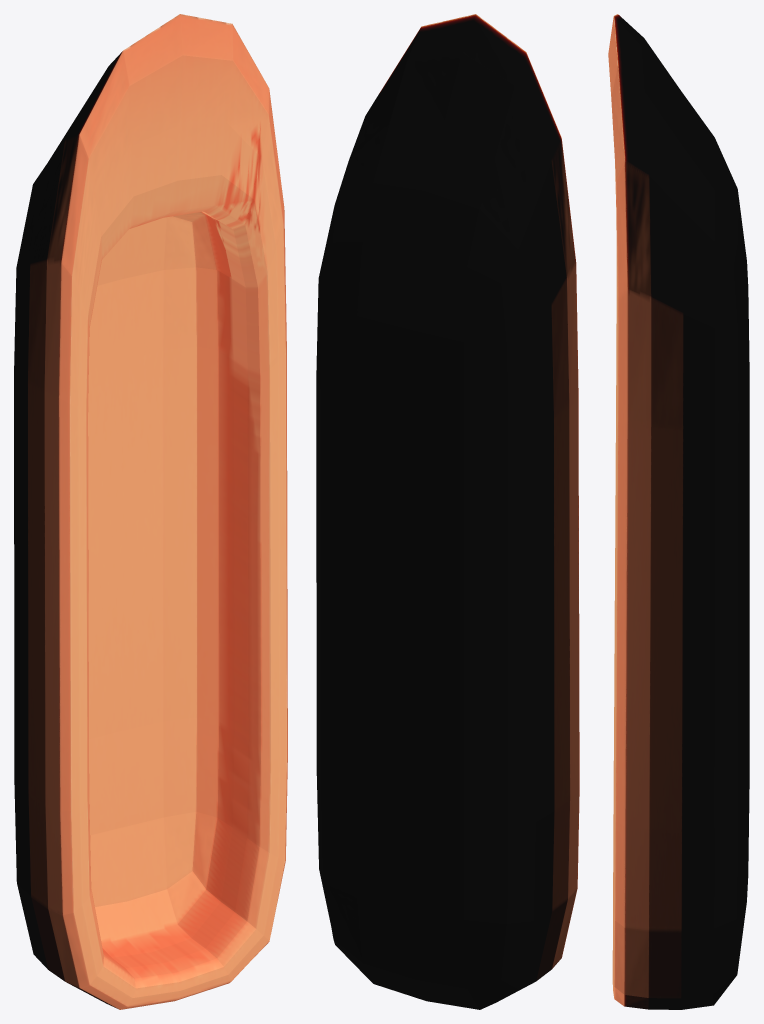
The model's file is boat.gltf.
3 renders of one model, left to right at view 1: azimuth 30°, elevation 25°; view 2: azimuth 150°, elevation 25°; view 3: azimuth 270°, elevation 25°, orthographic. The views are drawn at different scales.
Visible parts, largest first — view 1: Boat; view 2: Boat; view 3: Boat.
Part boxes in pixels (x1,y1,x2,y2): Boat: (14, 14, 287, 1009); Boat: (316, 14, 579, 1009); Boat: (608, 14, 749, 1009).
Size of the model in its own units: 0.25 by 1.02 by 0.1343.
1 material, 1 textured.
